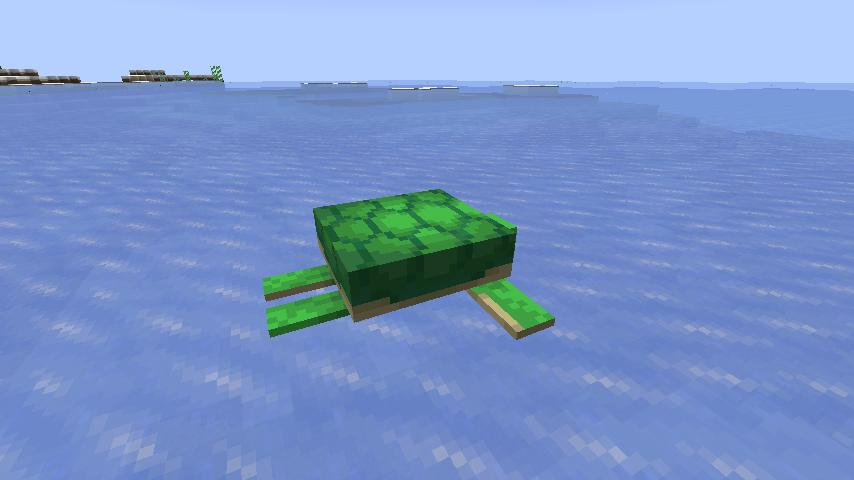turtle: (259, 185, 558, 351)
